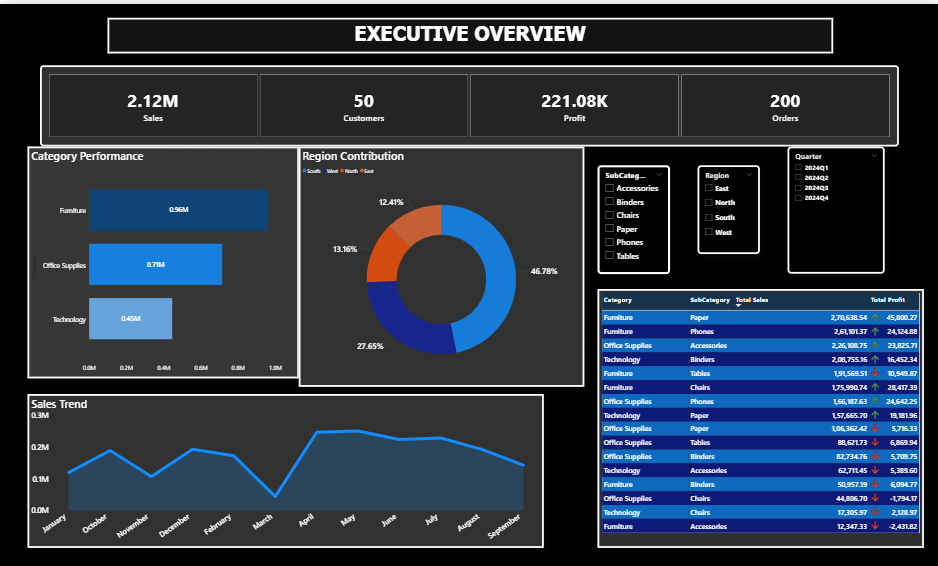

Layout of this report page (visuals, bound fields, positions):
{"tool":"powerbi","page":{"name":"Executive Overview","canvas":[2505,1500],"ordinal":0},"visuals":[{"type":"cardVisual","fields":{"Data":["Orders.Total Sales","Orders.Total Customers","Orders.Total Profit","Orders.Total Orders"]},"box":[106.7,163.3,2290,216.7],"z":1000},{"type":"lineChart","title":"Sales Trend","fields":{"Y":["Orders.Total Sales"],"Category":["Calendar.MonthName"]},"box":[73.3,1040,1376.7,410],"z":2000},{"type":"clusteredBarChart","title":"Category Performance","fields":{"Category":["Products.Category"],"Y":["Orders.Total Sales"]},"box":[72.9,379.5,723.9,618.3],"z":3000},{"type":"donutChart","title":"Region Contribution","fields":{"Category":["Customers.Region"],"Y":["Orders.Total Sales"]},"box":[796.8,379.5,761.6,640.9],"z":4000},{"type":"slicer","fields":{"Values":["Calendar.Quarter"]},"box":[2101.2,379.5,258.9,339.3],"z":5000},{"type":"slicer","fields":{"Values":["Customers.Region"]},"box":[1860,430,166.7,236.7],"z":6000},{"type":"slicer","fields":{"Values":["Products.SubCategory"]},"box":[1593.3,430,193.3,290],"z":7000},{"type":"tableEx","fields":{"Values":["Products.Category","Products.SubCategory","Orders.Total Sales","Orders.Total Profit"]},"box":[1592.5,760,870,690],"z":8000},{"type":"textbox","box":[285,37.5,1935,95],"z":9000}]}

Visuals, with their boxes in screenshot pixels (x1, y1, x2, y2), scaled from the page's 2505x1500 canvas onto the 938x566 screenshot:
cardVisual - Orders.Total Sales x Orders.Total Customers: (x1=40, y1=62, x2=897, y2=143)
"Sales Trend" lineChart: (x1=27, y1=392, x2=543, y2=547)
"Category Performance" clusteredBarChart: (x1=27, y1=143, x2=298, y2=377)
"Region Contribution" donutChart: (x1=298, y1=143, x2=584, y2=385)
slicer - Calendar.Quarter: (x1=787, y1=143, x2=884, y2=271)
slicer - Customers.Region: (x1=696, y1=162, x2=759, y2=252)
slicer - Products.SubCategory: (x1=597, y1=162, x2=669, y2=272)
tableEx - Products.Category x Products.SubCategory: (x1=596, y1=287, x2=922, y2=547)
textbox: (x1=107, y1=14, x2=831, y2=50)
